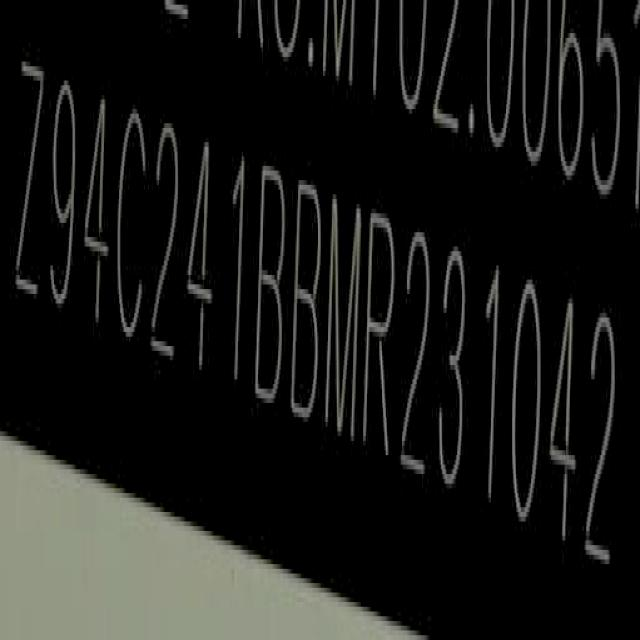0: (512, 274, 545, 532)
1: (482, 265, 502, 513), (227, 150, 247, 388)
2: (588, 307, 621, 569), (402, 240, 432, 478), (151, 119, 179, 364)
3: (439, 244, 468, 491)
4: (548, 292, 578, 553), (189, 138, 217, 378), (85, 94, 113, 332)
9: (52, 75, 80, 315)
B: (257, 159, 289, 404), (294, 178, 324, 426)
C: (118, 104, 148, 347)
M: (326, 191, 362, 442)
R: (366, 207, 398, 456)
Z: (16, 57, 45, 304)
